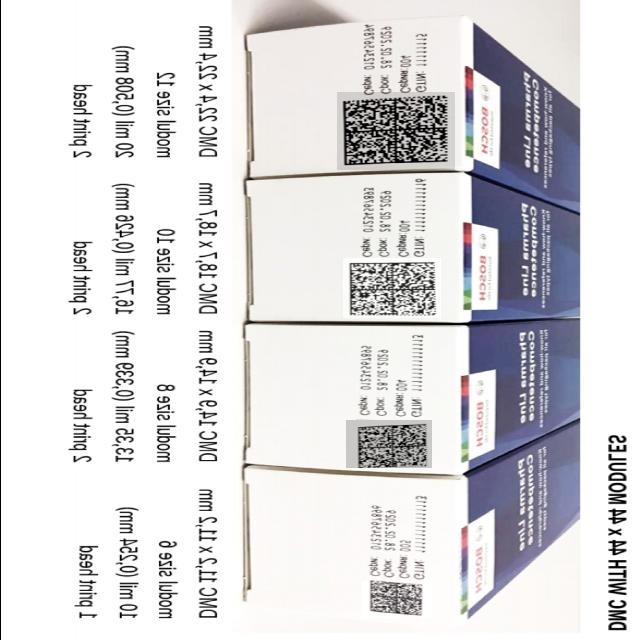DataMatrix: (336, 92, 454, 170), (342, 258, 440, 318), (345, 420, 431, 468), (361, 581, 431, 618)
